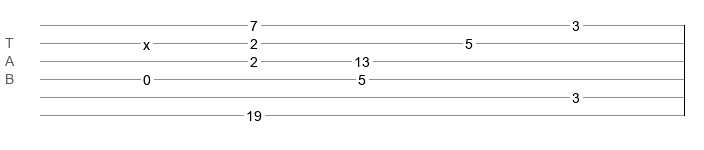0: (143, 72, 151, 82)
13: (354, 54, 370, 64)
19: (246, 108, 262, 118)
2: (250, 54, 258, 64), (250, 36, 258, 46)
3: (572, 90, 580, 100), (572, 18, 580, 28)
5: (358, 72, 366, 82), (465, 36, 473, 46)
7: (250, 18, 258, 28)
x: (143, 37, 150, 45)
